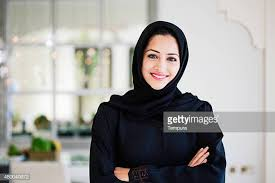middle_eastern_Female: (141, 30, 186, 92)
